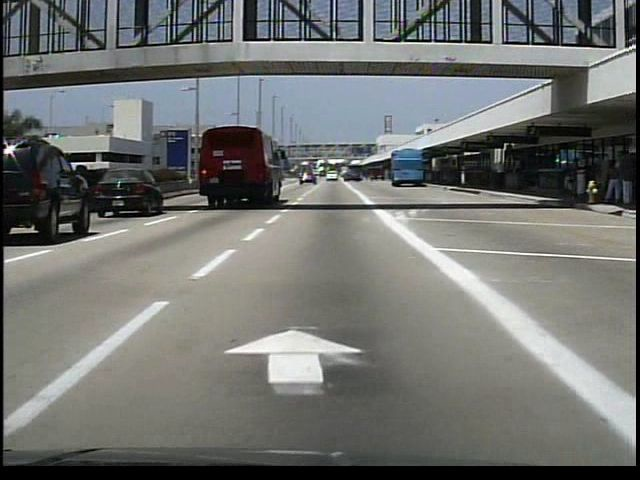person: (497, 162, 510, 192)
